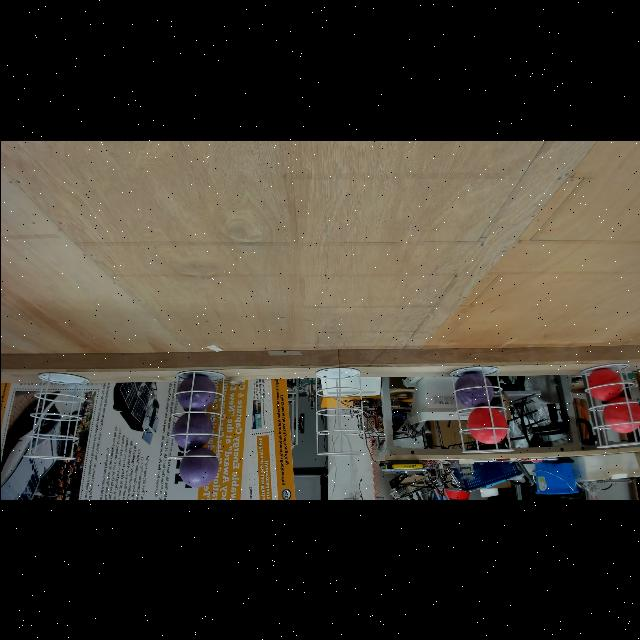P: (177, 446, 219, 488), (172, 410, 212, 450), (176, 373, 216, 412), (453, 372, 493, 408)
R: (466, 405, 508, 445), (600, 396, 640, 434), (586, 367, 622, 401)
S: (20, 371, 90, 461), (448, 364, 514, 454), (164, 370, 226, 460), (578, 362, 640, 450), (314, 366, 366, 456)
